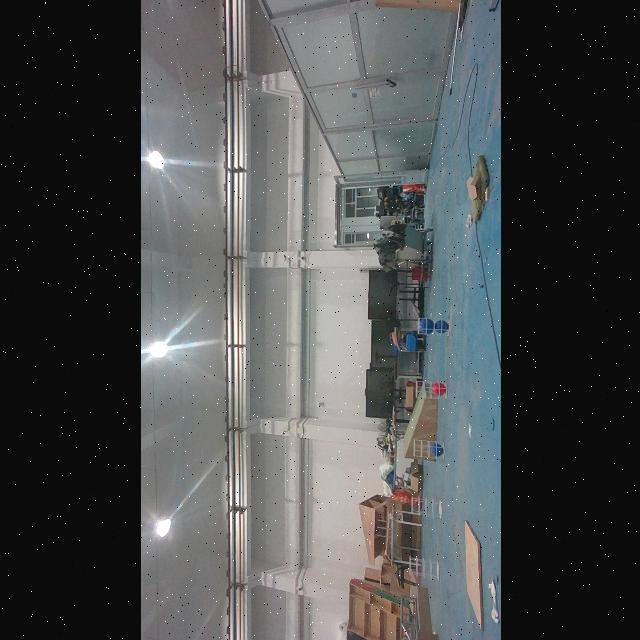B: (419, 319, 433, 335), (434, 320, 448, 334), (430, 442, 442, 456)
R: (432, 382, 444, 396)
S: (408, 494, 444, 520), (412, 436, 446, 462), (406, 556, 440, 582), (412, 378, 450, 400), (416, 315, 452, 337)
